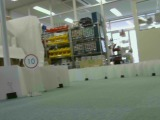speed_10: (23, 53, 39, 69)
